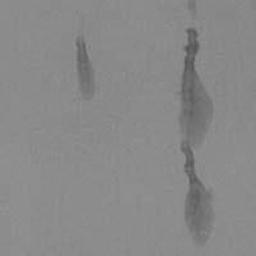Oil spot: (173, 26, 216, 251), (73, 35, 99, 104), (187, 0, 198, 22)
